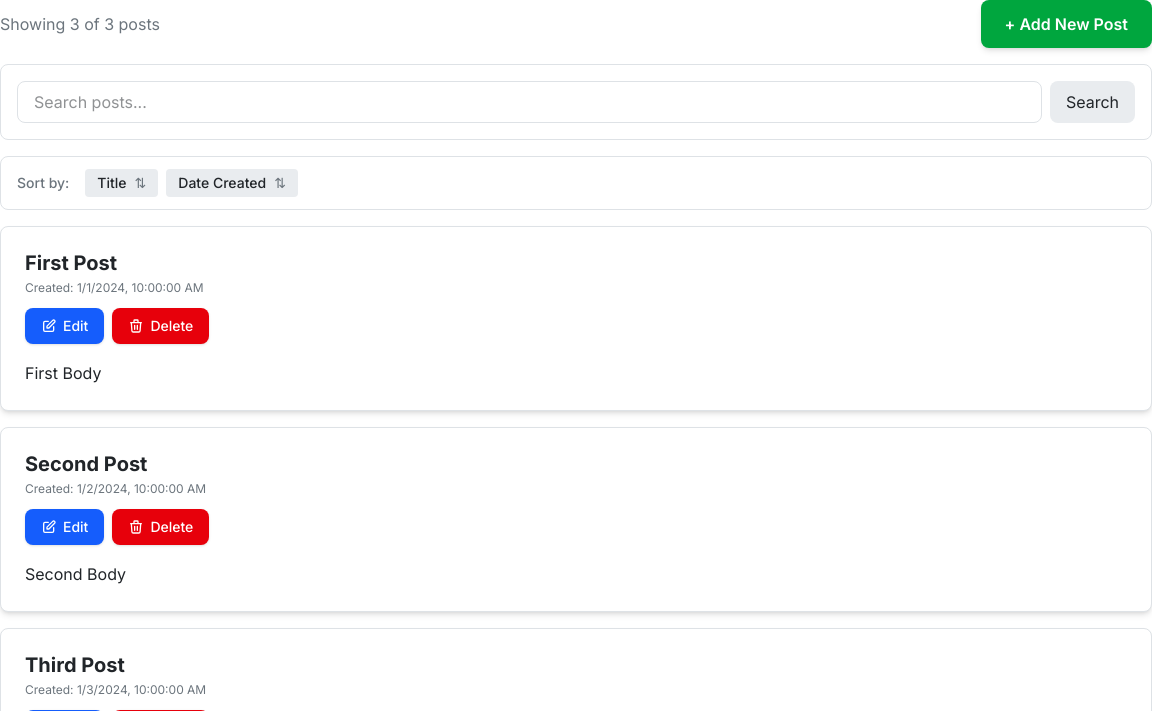
Test: PostsTable Component › Post Creation › should add new post and show success toast
Expected: the heading "First Post" is shown, [25,251,117,275]
# Open modal
Click the button "+ Add New Post" at (1066, 24), box [981,0,1151,48]
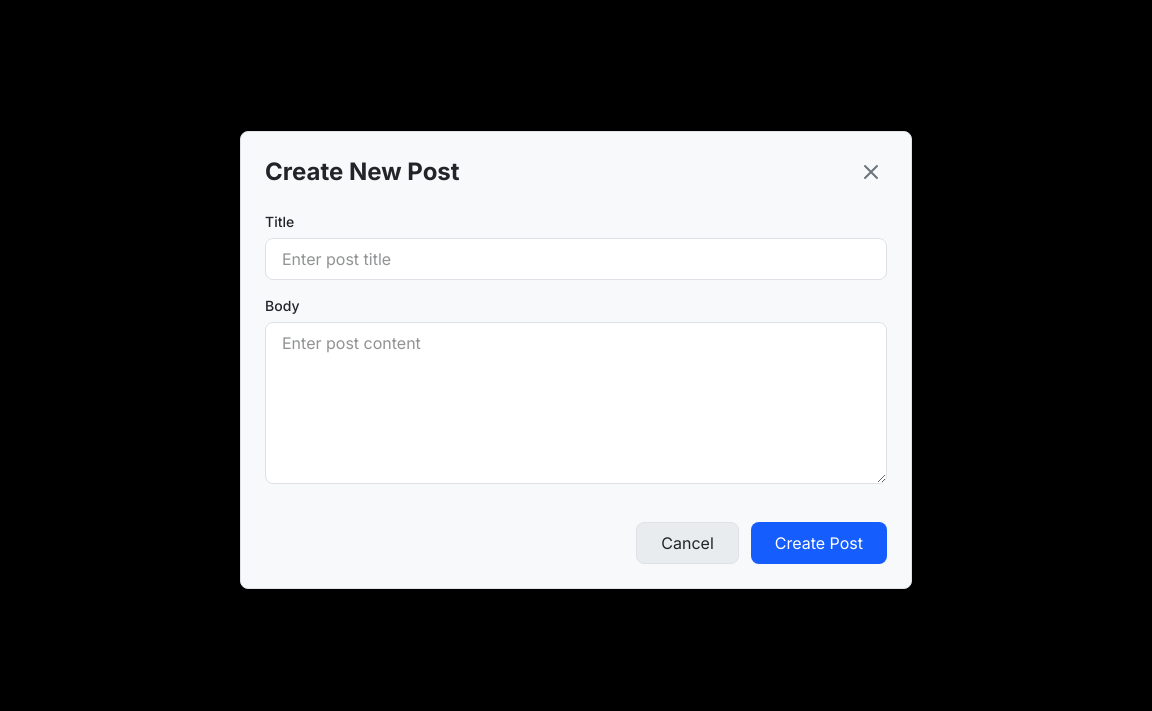
# Fill form
Type "New Test Post" into the field labelled "Title" at (576, 259), box [265,238,887,280]
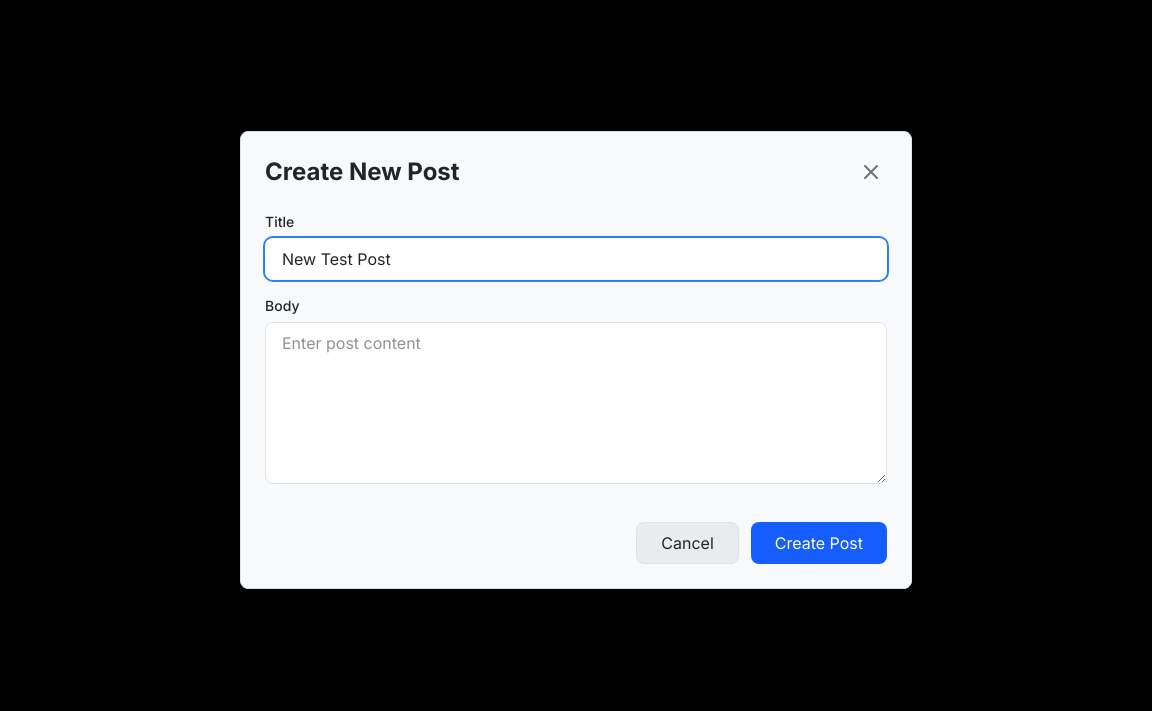
Type "New Test Body" into the text box labelled "Body" at (576, 403), box [265,322,887,484]
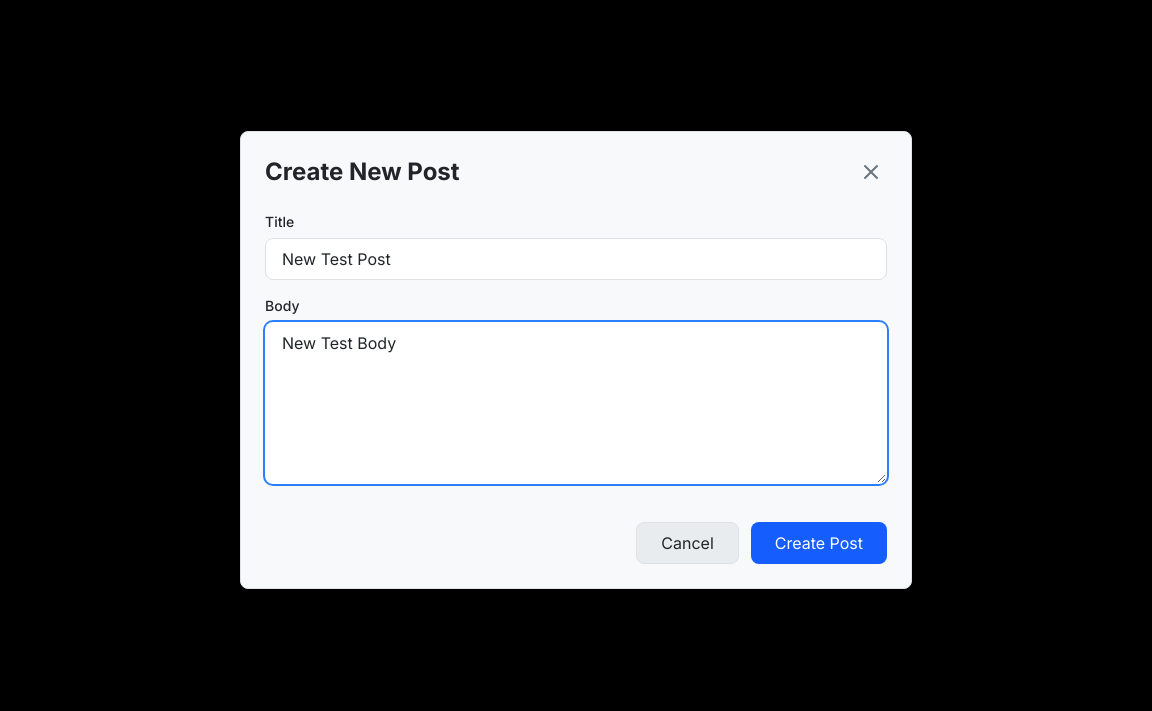
Click the button "Create Post" at (819, 543), box [751,522,887,564]
(page scrolled)
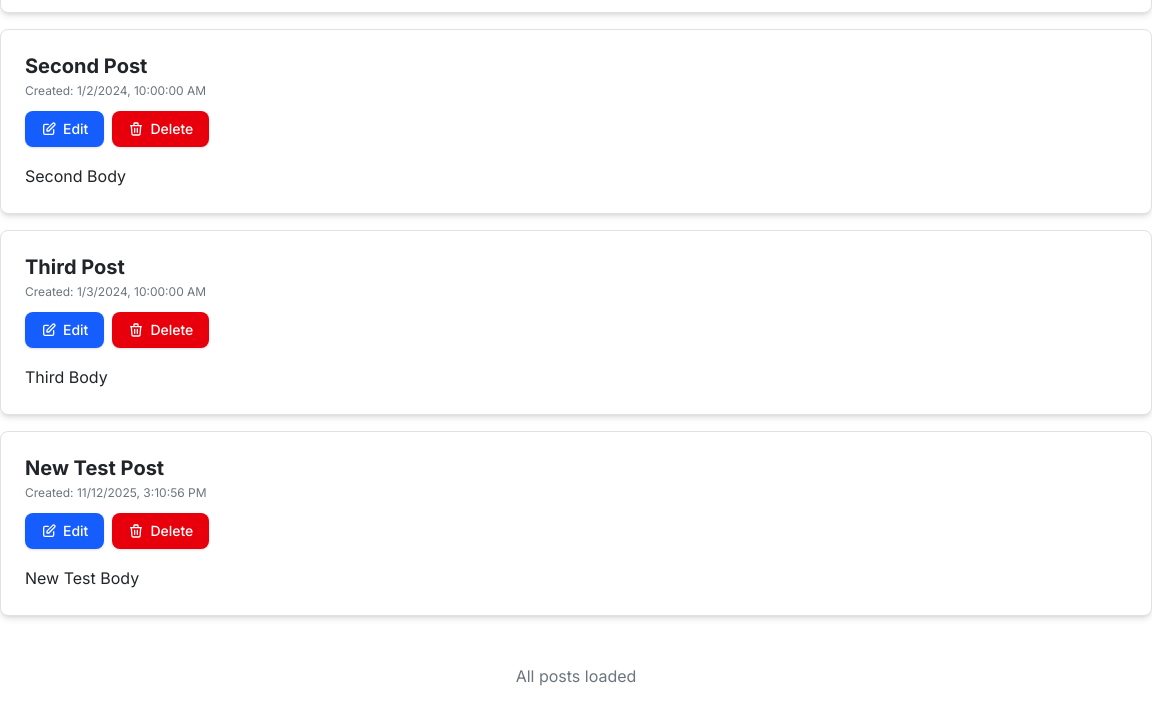
Expected: the heading "New Test Post" is shown, [25,456,164,480]
